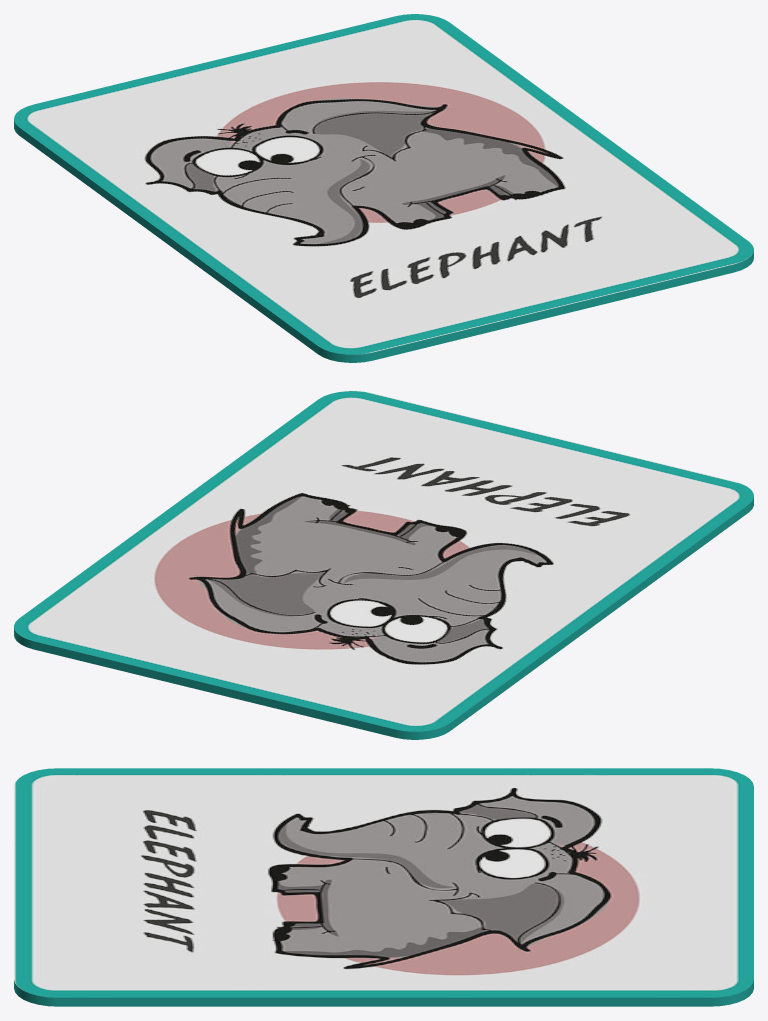
The model's file is carta memory_elephant.fbx.
3 views of the same model, one above another, from view 1: azimuth 30°, elevation 25°; view 2: azimuth 150°, elevation 25°; view 3: azimuth 270°, elevation 25° (orthographic). The views are drawn at different scales.
Parts seen in each view (by area): view 1: pCube1; view 2: pCube1; view 3: pCube1.
Boxes of the visible parts, x1,y1,x2,y2 form: pCube1: (14,14,753,362); pCube1: (14,391,753,739); pCube1: (14,768,753,1006).
Size of the model in its own units: 5.5 by 0.1 by 7.5.
1 material, 1 textured.
